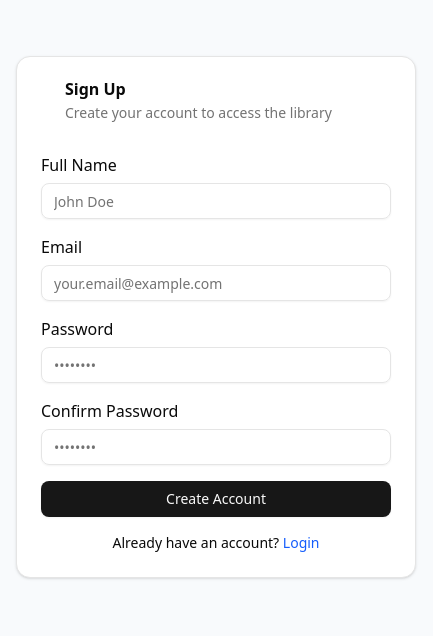
Test case: SignUpComponent › submits the form with valid data and shows success message
Fill the form with valid data
Type "Test User" into the field labelled "Full Name" at (216, 201), box [41,183,391,219]
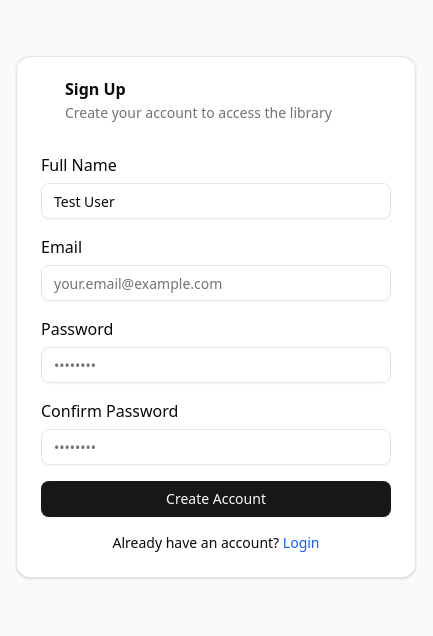
Type "test@example.com" into the field labelled "Email" at (216, 283), box [41,265,391,301]
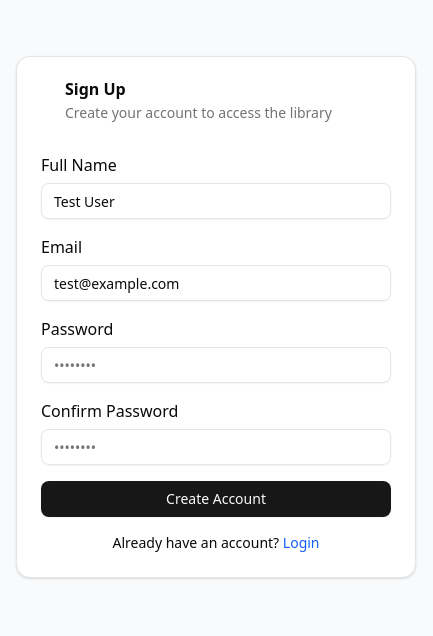
Type "password123" into the password field labelled "Password" at (216, 365), box [41,347,391,383]
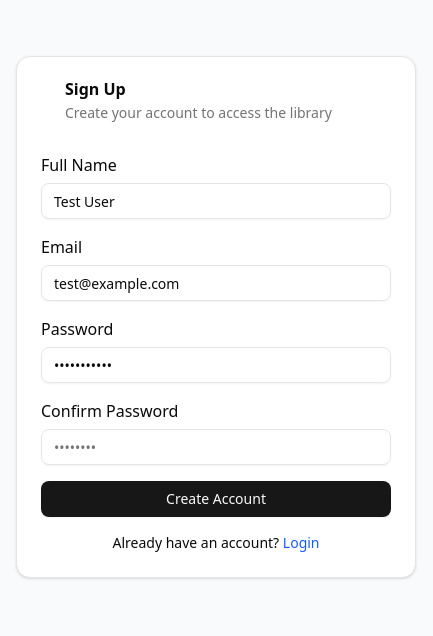
Type "password123" into the password field labelled "Confirm Password" at (216, 447), box [41,429,391,465]
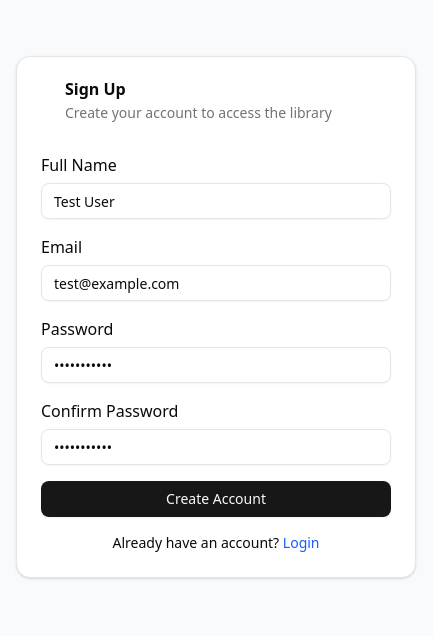
Submit form
Click the button "Create Account" at (216, 499), box [41,481,391,517]
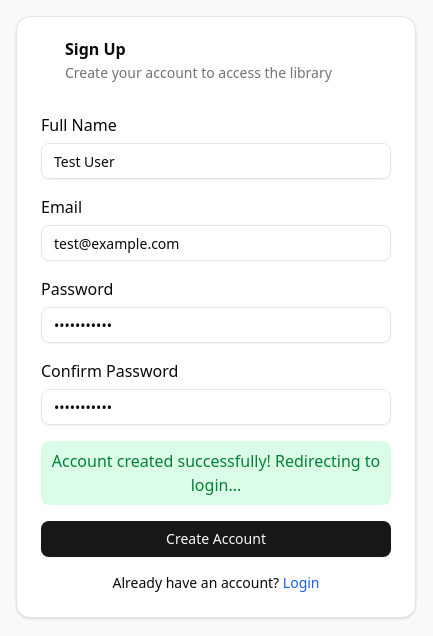
Check: the message "Account created successfully! Redirecting to login..." is shown, box [41,441,391,505]
